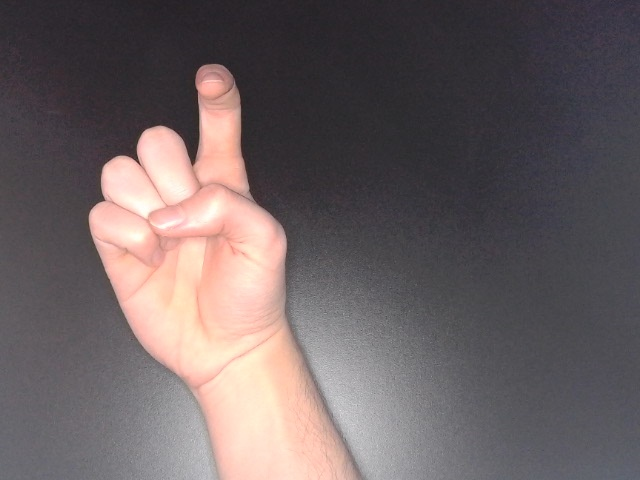x: (84, 59, 296, 419)
